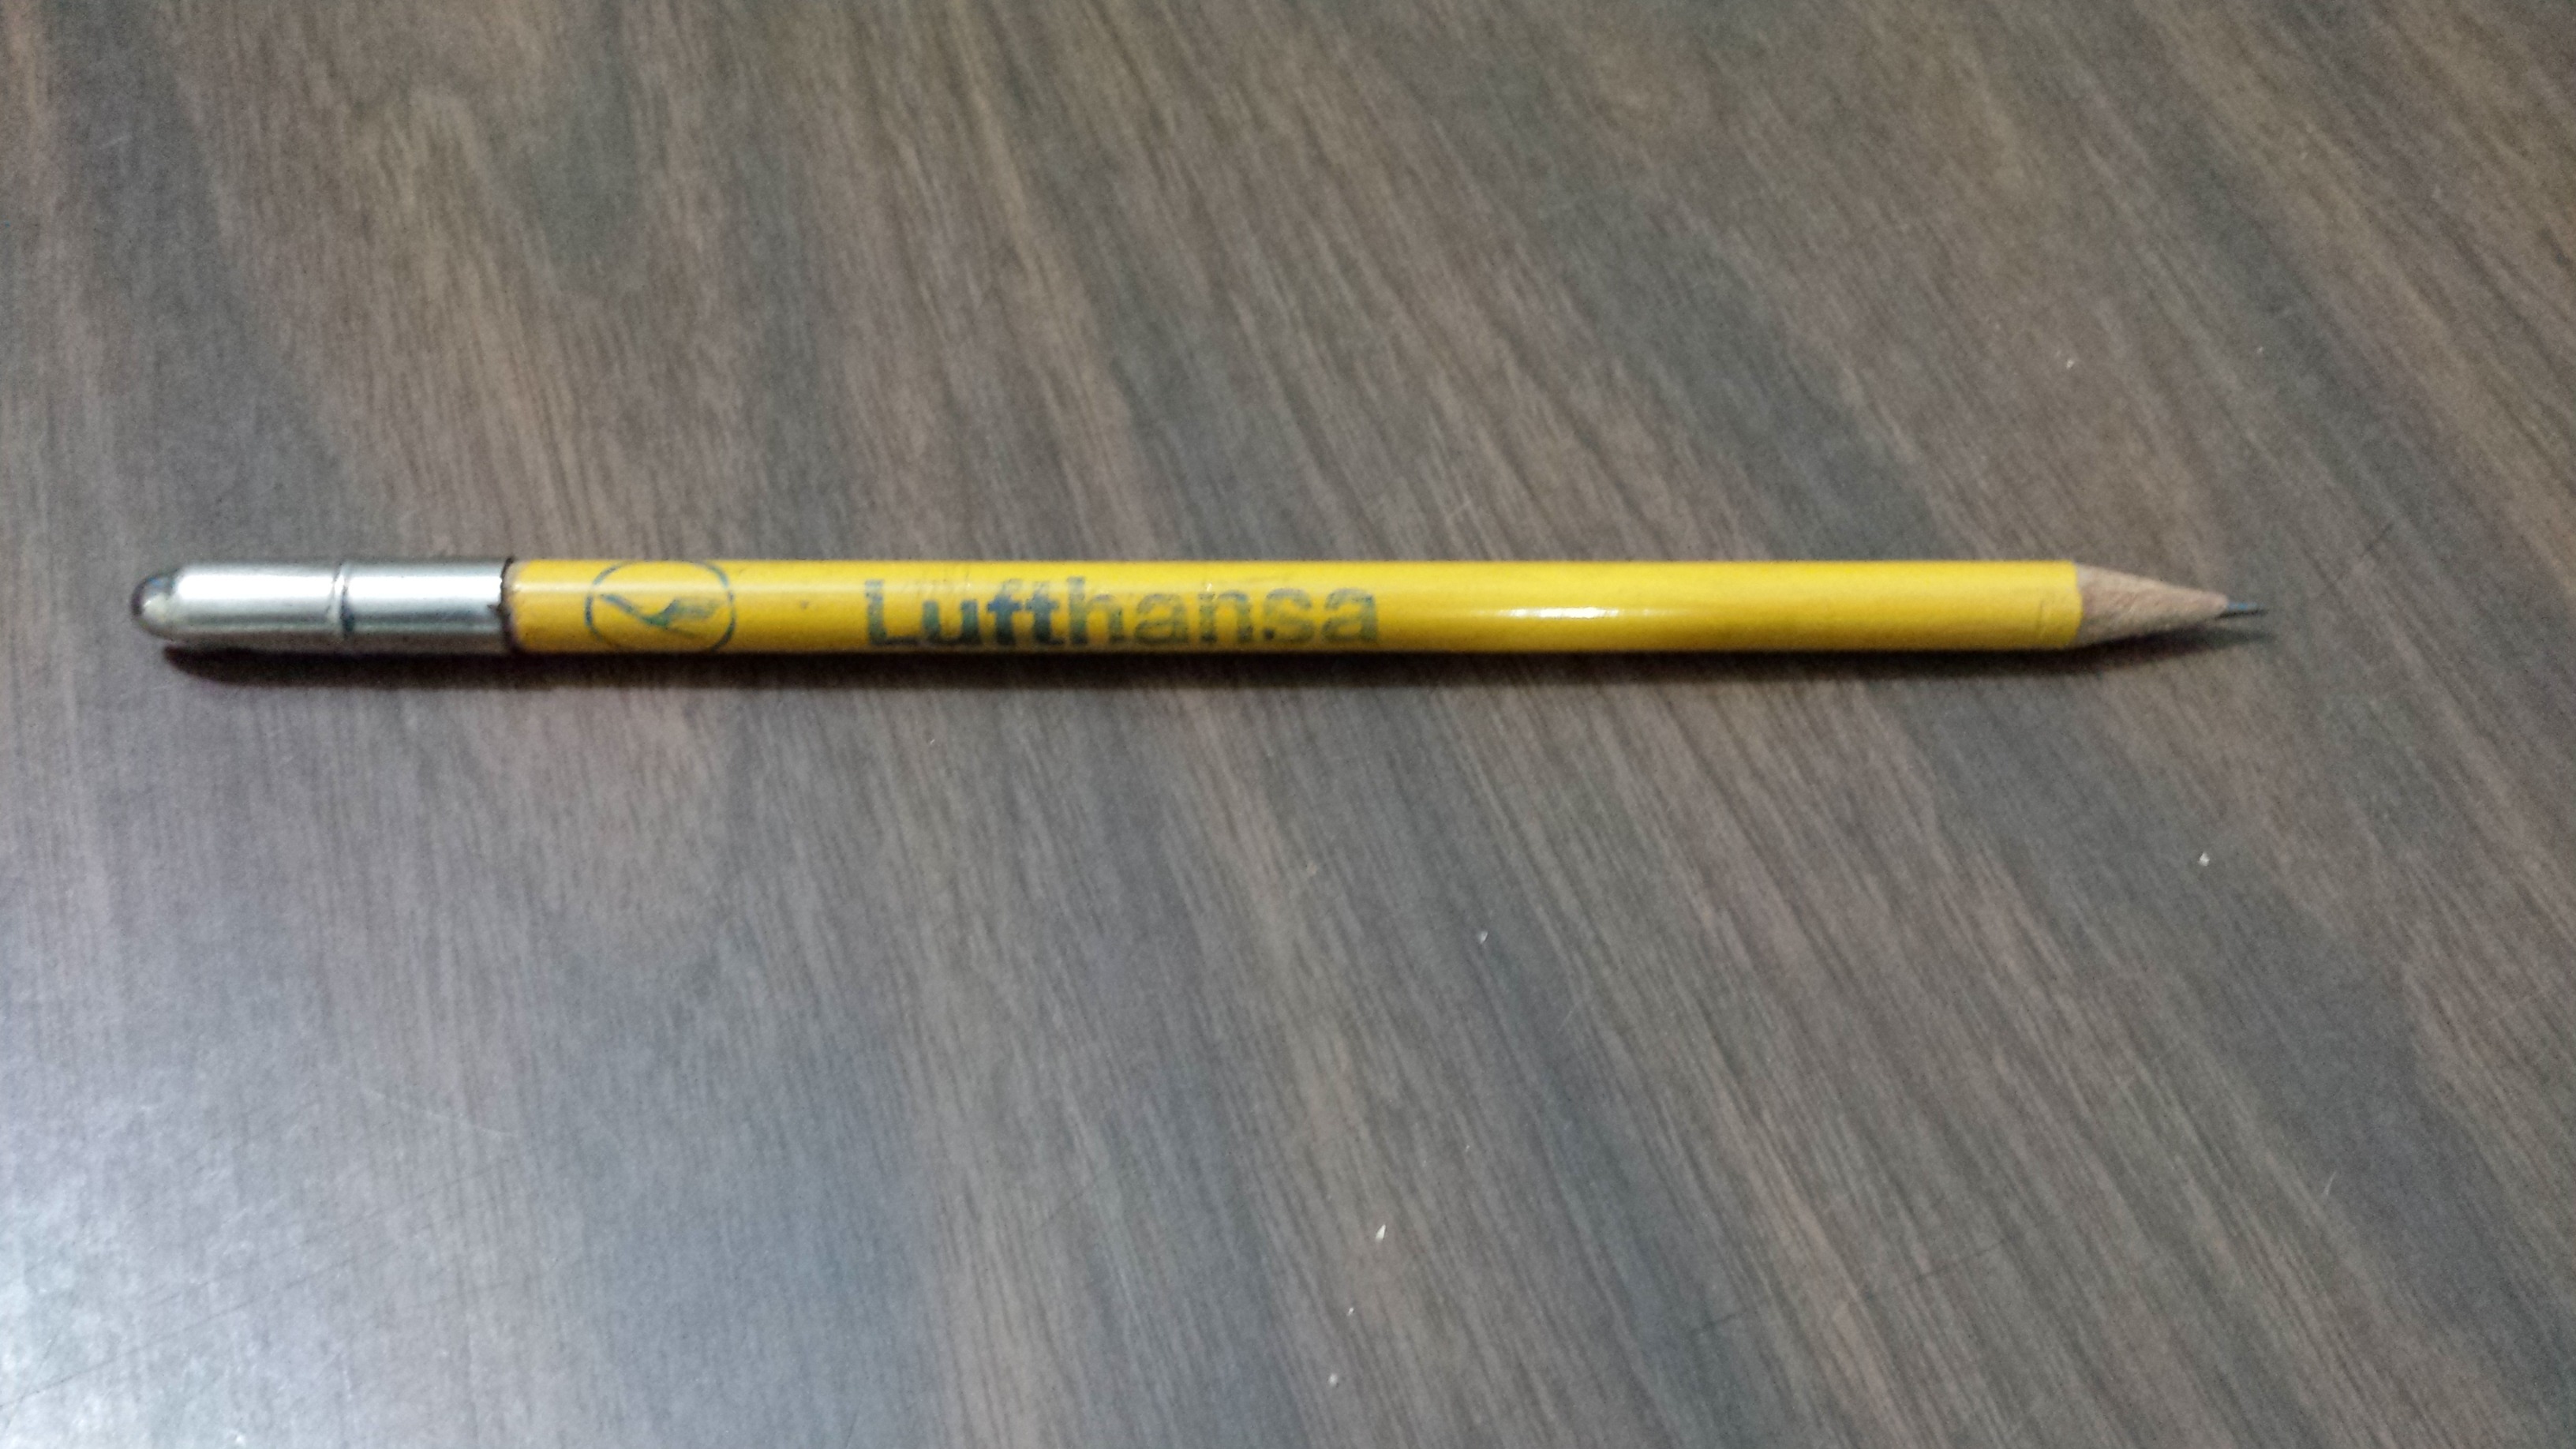pen_tip: (2024, 490, 2321, 717)
